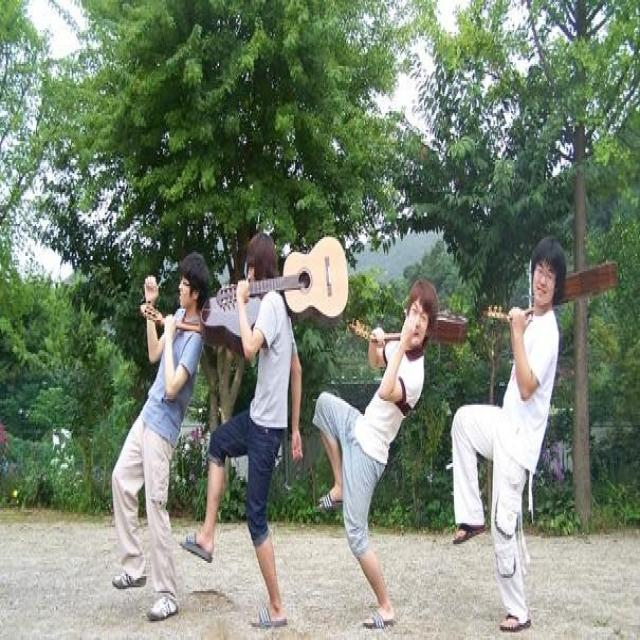guitar: (217, 227, 349, 321), (480, 259, 622, 327), (140, 288, 268, 354), (346, 308, 474, 347)
